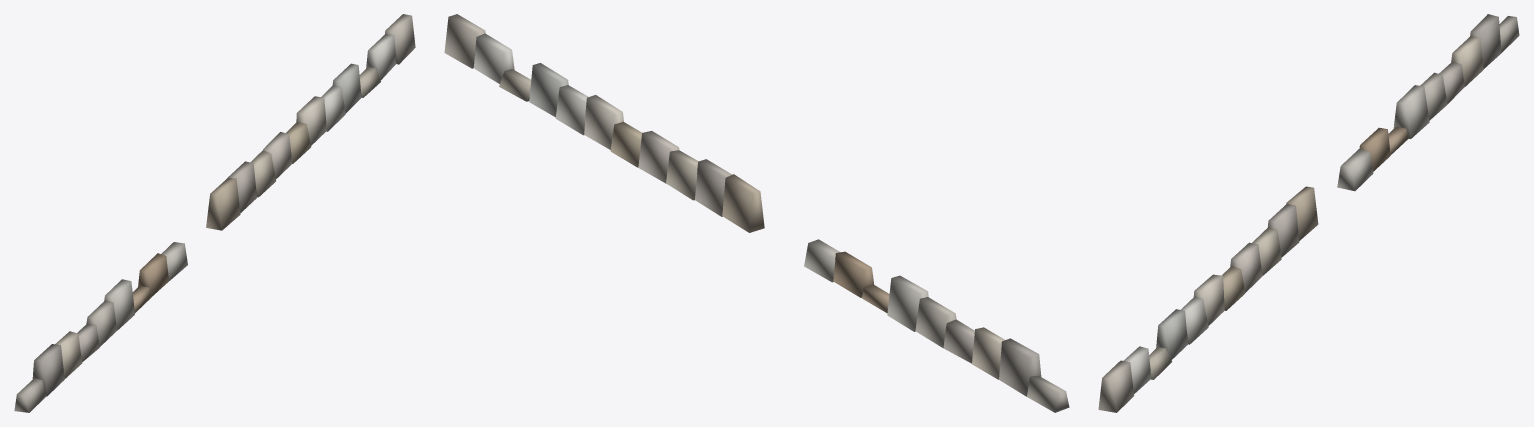
Rendered from farm_-8_7_far.glb.
The picture shows the model from 3 angles, left to right: view 1: azimuth 90°, elevation 25°; view 2: azimuth 150°, elevation 25°; view 3: azimuth 270°, elevation 25°; orthographic projection. The views are drawn at different scales.
Visible parts, largest first — view 1: geometry_0; view 2: geometry_0; view 3: geometry_0.
Part boxes in pixels (<box>): geometry_0: <box>14,14,415,412</box>; geometry_0: <box>444,14,1069,412</box>; geometry_0: <box>1098,14,1519,412</box>.
Size of the model in its own units: 32.35 by 1.52 by 15.
